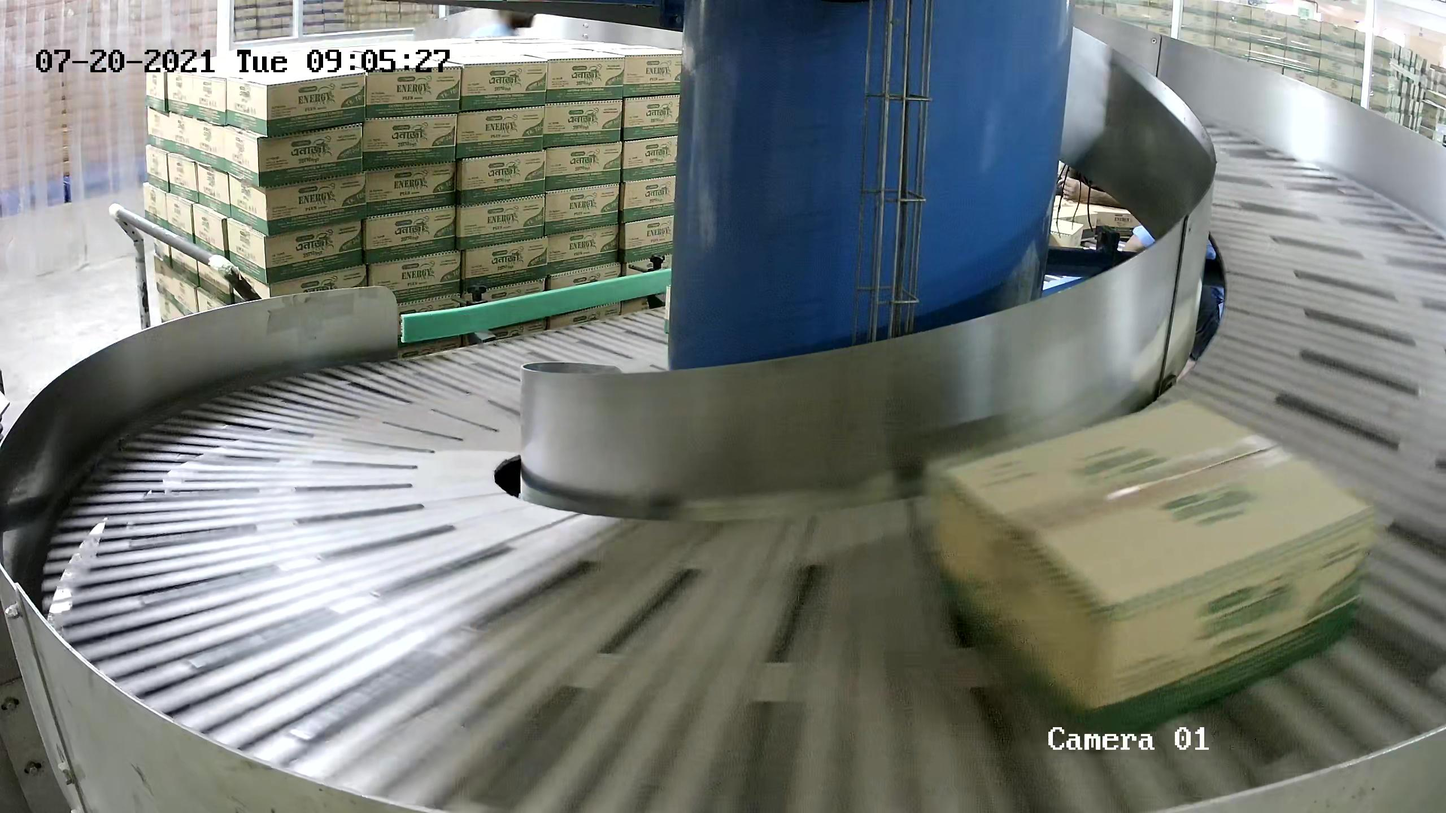Box: (922, 392, 1379, 748)
